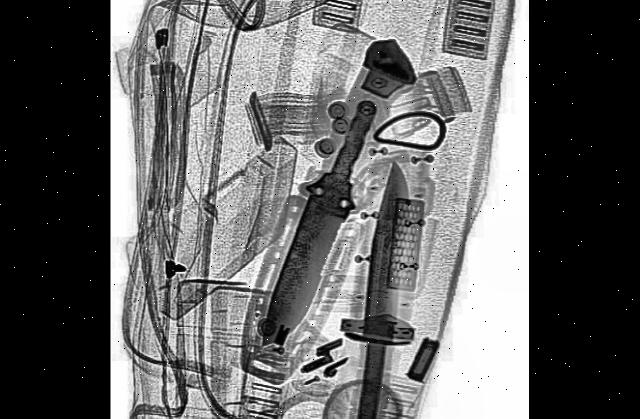Knife: (242, 70, 396, 378), (325, 150, 434, 419)
